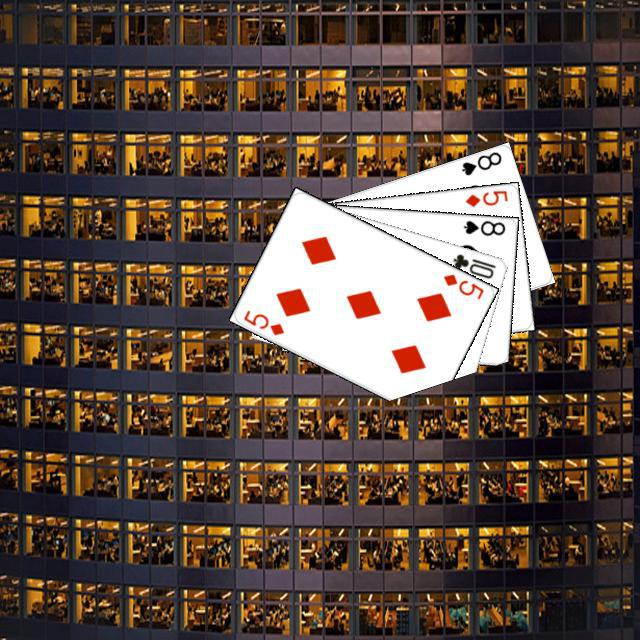10c: (448, 249, 497, 280)
5d: (438, 269, 485, 301), (239, 305, 286, 337), (460, 185, 509, 208)
8s: (456, 147, 503, 177), (459, 216, 507, 237)
